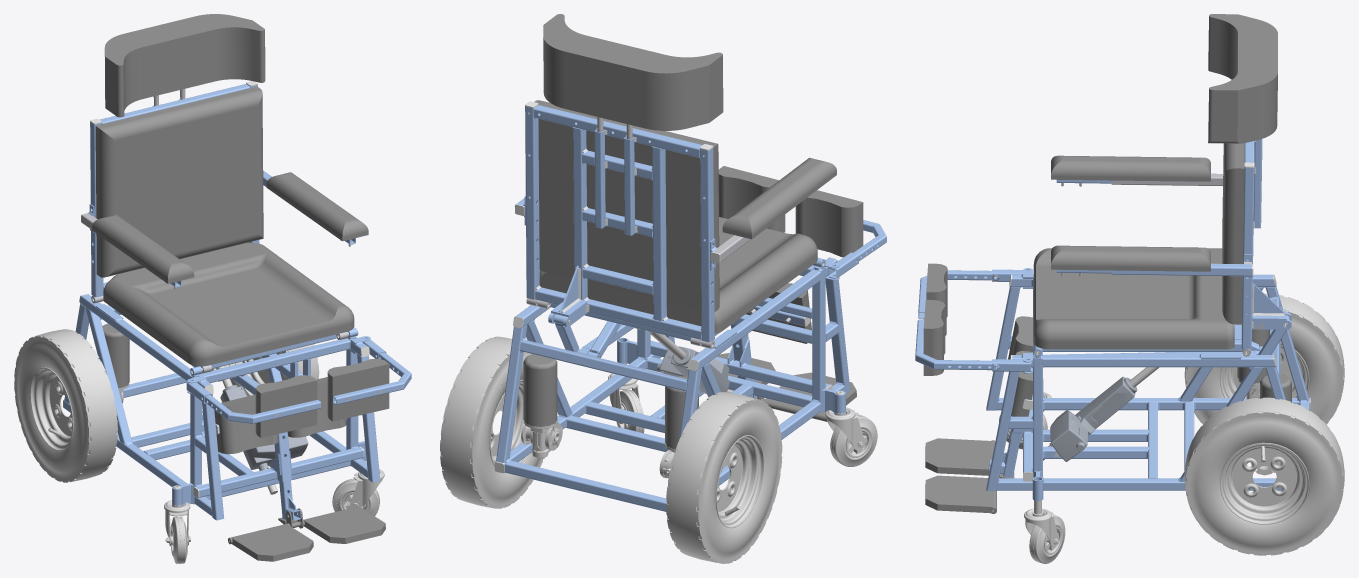
File: SILLA_BIPEDESTADORA.glb
3 views of the same model, side by side, from view 1: azimuth 30°, elevation 25°; view 2: azimuth 150°, elevation 25°; view 3: azimuth 270°, elevation 25° (orthographic). The views are drawn at different scales.
Parts seen in each view (by area): view 1: SILLA_BIPEDESTADORA; view 2: SILLA_BIPEDESTADORA; view 3: SILLA_BIPEDESTADORA.
Boxes of the visible parts, x1,y1,x2,y2 form: SILLA_BIPEDESTADORA: (14,14,411,563); SILLA_BIPEDESTADORA: (440,14,886,563); SILLA_BIPEDESTADORA: (915,14,1344,563).
Size of the model in its own units: 0.7137 by 1.28 by 1.07.
